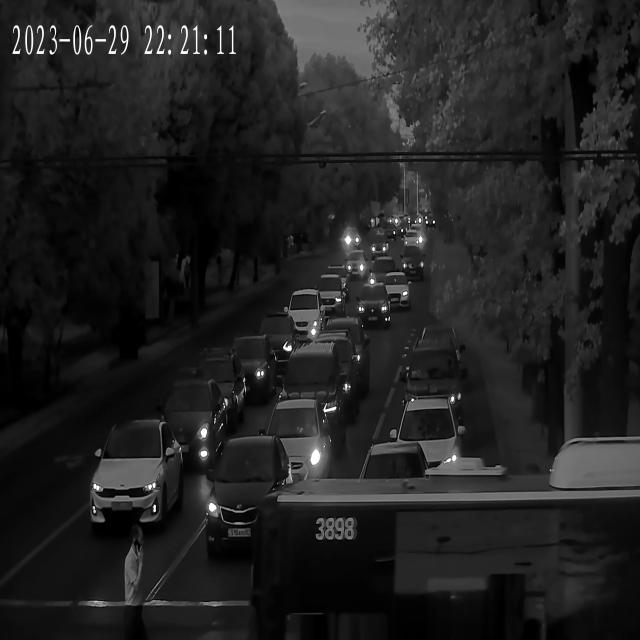Bus: (246, 439, 640, 640)
Car: (83, 419, 185, 534), (200, 437, 288, 556), (264, 342, 345, 433), (152, 384, 227, 469), (260, 399, 332, 486), (383, 398, 463, 476), (398, 345, 468, 418), (176, 358, 246, 430), (298, 337, 363, 400), (222, 338, 276, 399), (313, 322, 371, 378), (254, 319, 302, 368), (280, 290, 328, 338), (415, 327, 467, 369), (303, 274, 345, 312), (356, 286, 391, 328), (380, 272, 414, 308), (368, 259, 402, 288), (319, 267, 350, 296), (402, 246, 426, 278), (342, 256, 368, 280), (370, 238, 389, 258), (405, 233, 424, 249), (342, 231, 360, 247)
